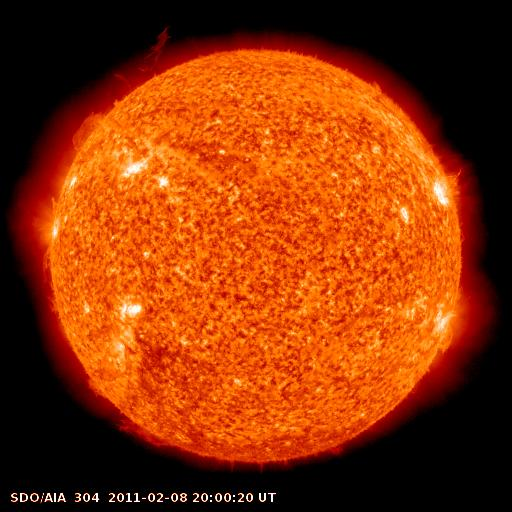prominence: (78, 369, 187, 461), (98, 19, 180, 101), (55, 109, 124, 154)
